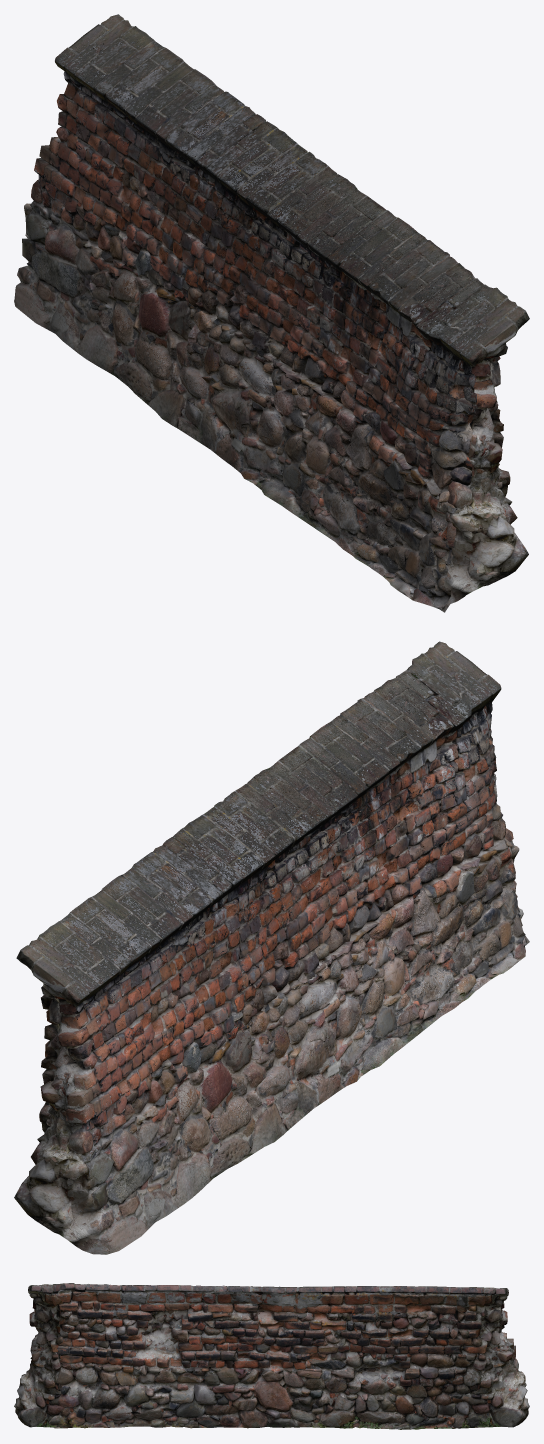
Rendered from sm_Wall_01_04.fbx.
3 views of the same model, one above another, from view 1: azimuth 30°, elevation 25°; view 2: azimuth 150°, elevation 25°; view 3: azimuth 270°, elevation 25° (orthographic). The views are drawn at different scales.
Visible parts, largest first — view 1: sm_Wall_01_04_LOD0; view 2: sm_Wall_01_04_LOD0; view 3: sm_Wall_01_04_LOD0.
Boxes of the visible parts, x1,y1,x2,y2 form: sm_Wall_01_04_LOD0: (14, 14, 529, 612); sm_Wall_01_04_LOD0: (14, 641, 529, 1254); sm_Wall_01_04_LOD0: (14, 1283, 529, 1429).
Size of the model in its own units: 80.95 by 587 by 204.
